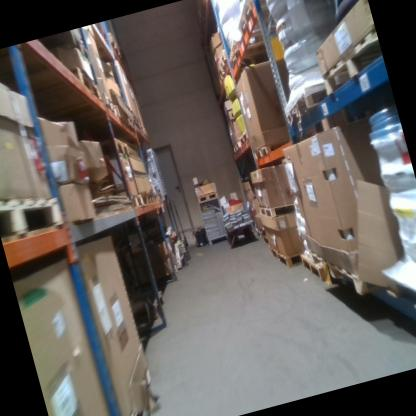pallet: (313, 29, 388, 94), (0, 181, 66, 243), (321, 246, 380, 305), (280, 83, 332, 124), (67, 61, 103, 109), (268, 236, 309, 271), (298, 246, 330, 290), (258, 196, 300, 223), (231, 0, 261, 37), (96, 132, 132, 162), (133, 292, 168, 322), (252, 139, 291, 160), (223, 36, 247, 68), (101, 90, 122, 122), (216, 47, 232, 74), (196, 190, 220, 206), (127, 193, 146, 210), (238, 128, 251, 148), (223, 109, 238, 126), (215, 69, 227, 90), (124, 114, 136, 134), (231, 139, 244, 156), (141, 192, 151, 206), (148, 193, 157, 205)
pallet_truck: (155, 195, 193, 271), (167, 191, 195, 255)
